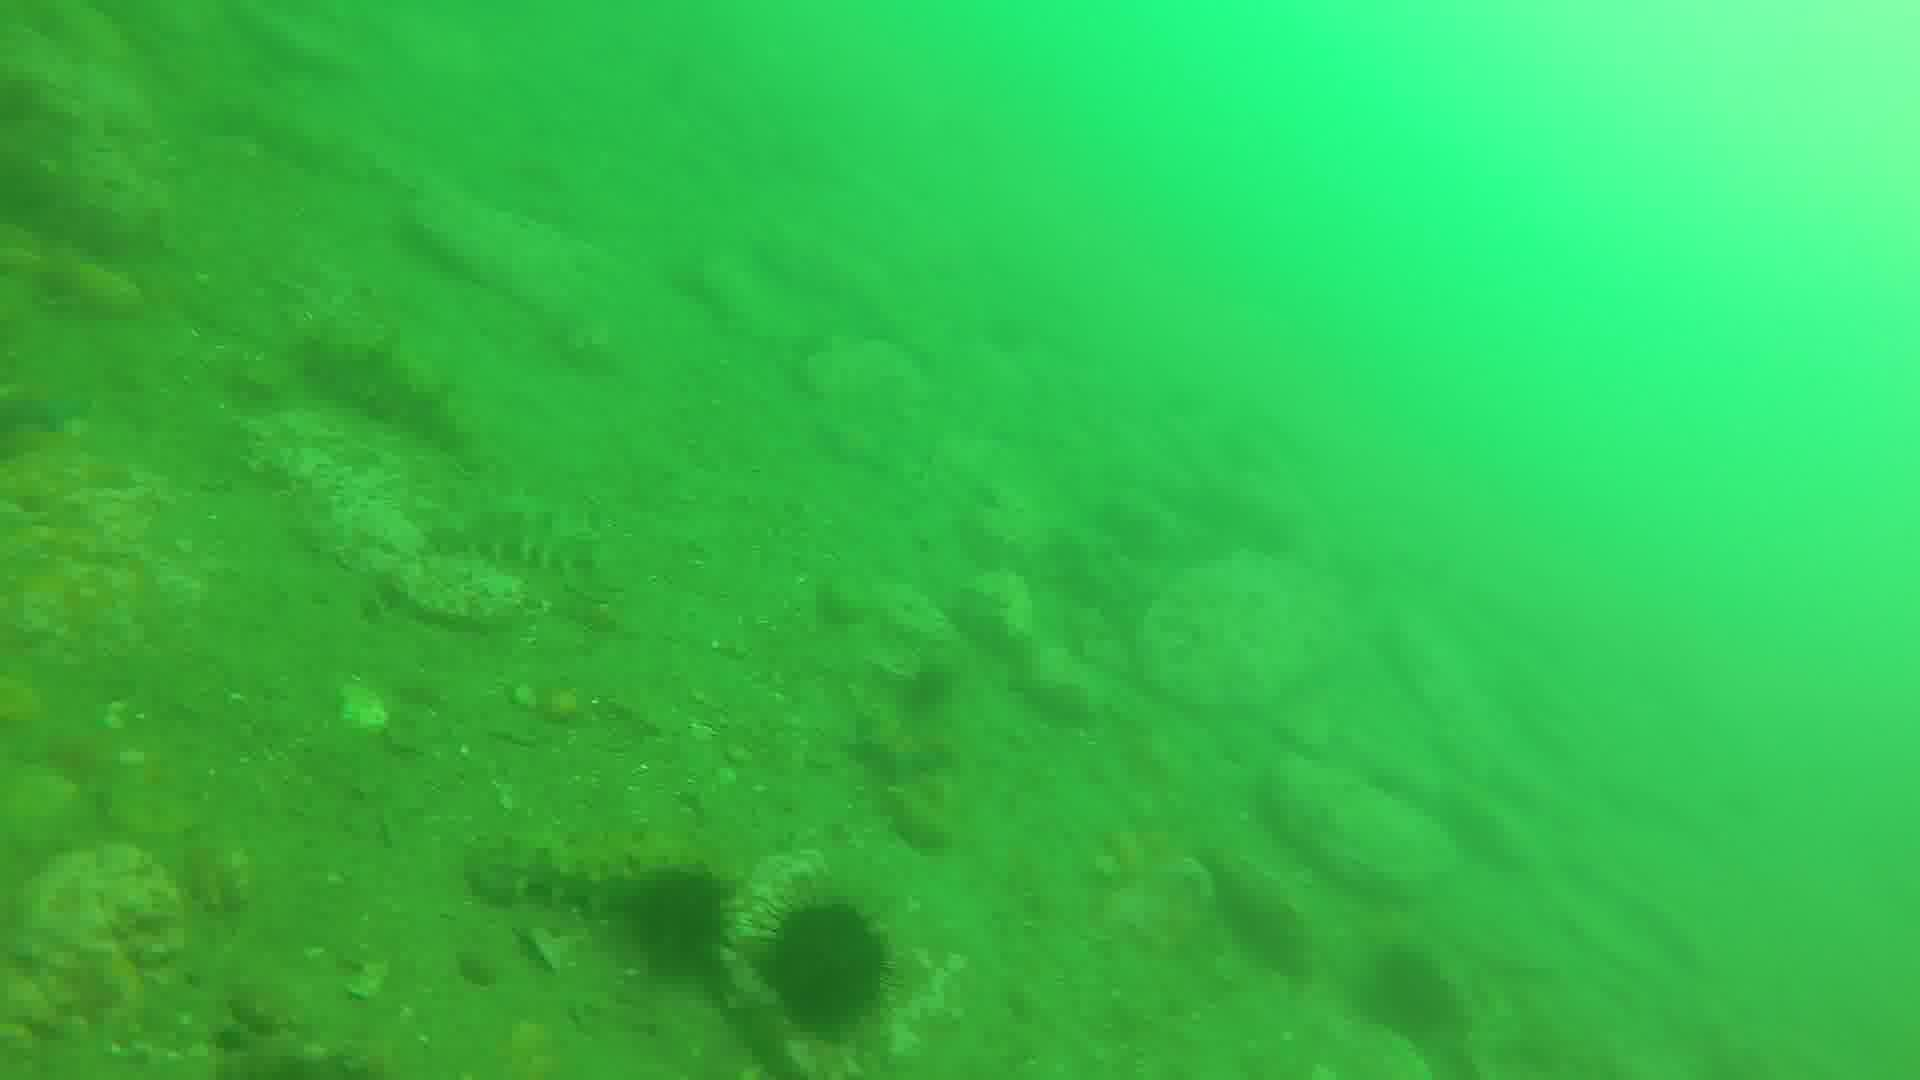echinus: (777, 894, 890, 1030), (636, 874, 735, 967)
holothurian: (302, 318, 485, 451), (477, 824, 691, 920), (430, 492, 608, 579)
